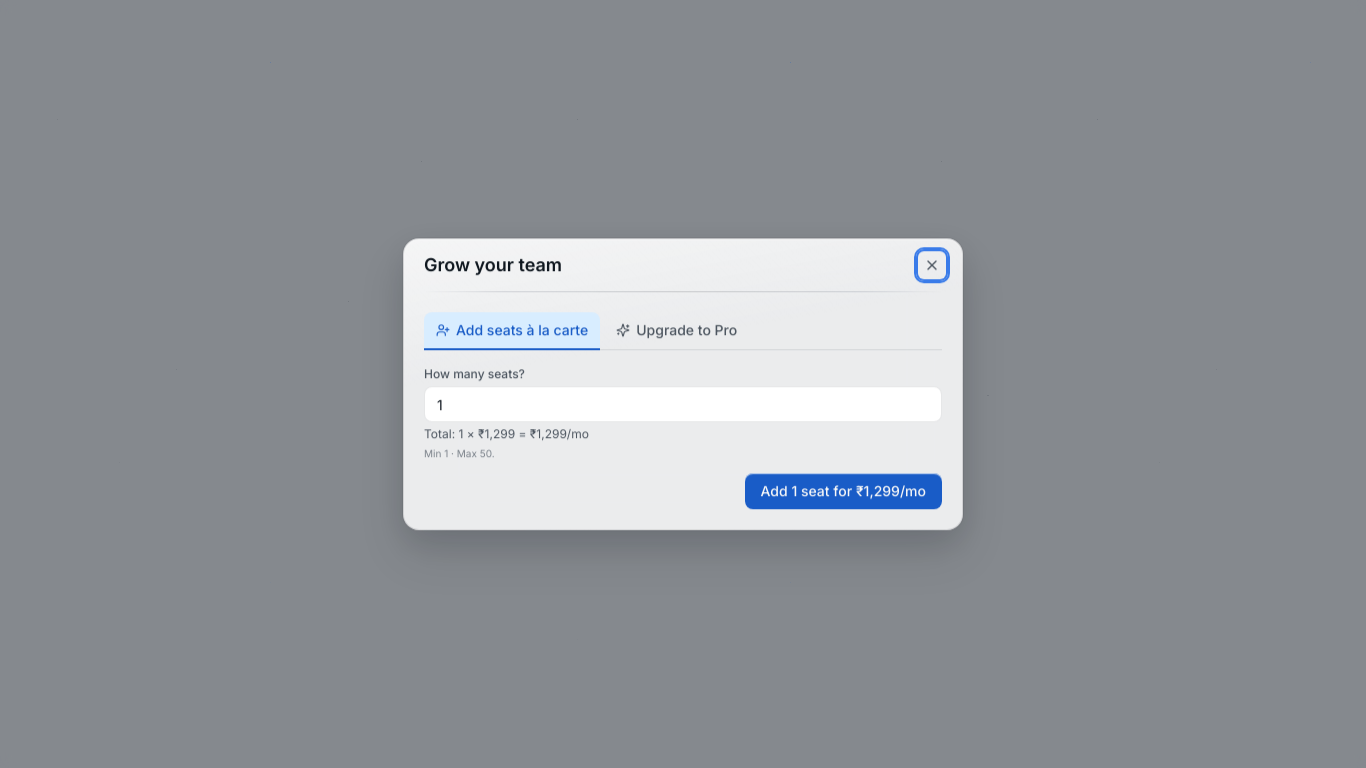
Test case: BuySeatsModal › count input clamps to min 1
This screenshot has width=1366, height=768.
Replace the text in the number field with test id "buy-seats-count" with "0" at (683, 404), box [424,386,942,422]
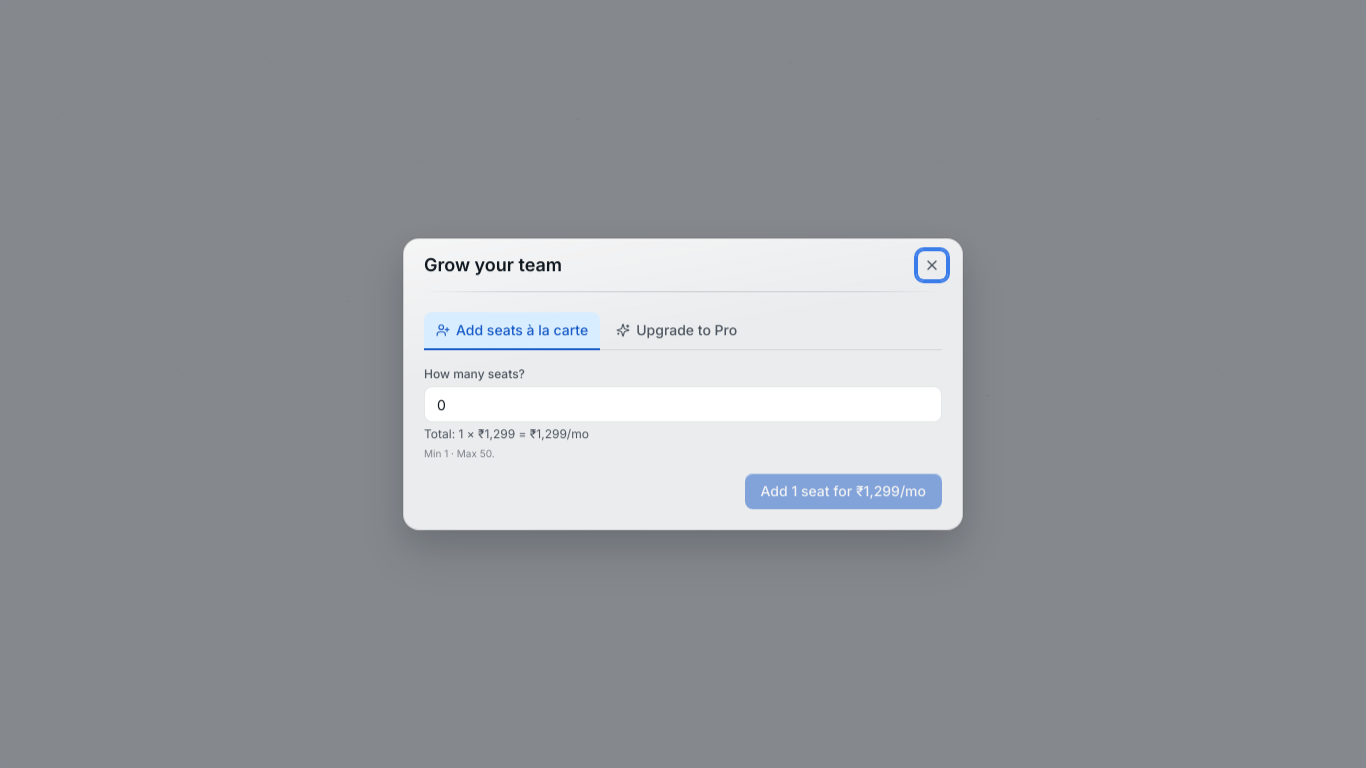
Result: the button with test id "buy-seats-submit" is disabled at [744,473,942,509]
